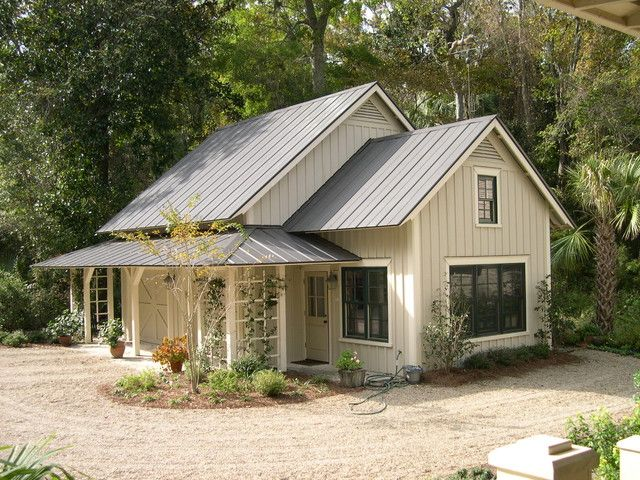Tin-shade House: (30, 79, 574, 374)
